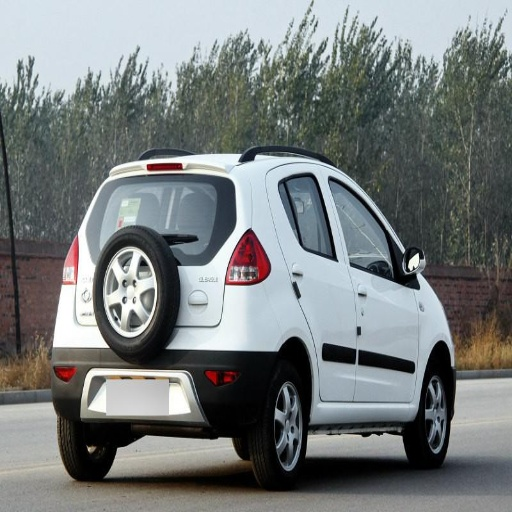back_bumper: (167, 268, 284, 426)
back_right_door: (280, 167, 355, 405)
trunk: (178, 239, 235, 319)
